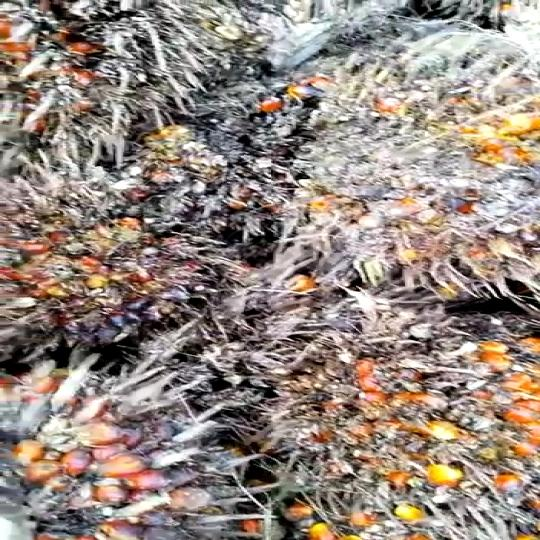terlalu masak: (204, 293, 540, 516), (262, 55, 540, 292)
